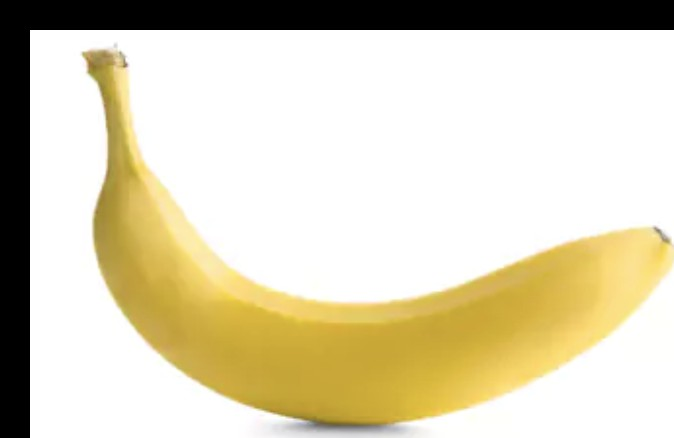fresh_banana: (83, 47, 674, 426)
